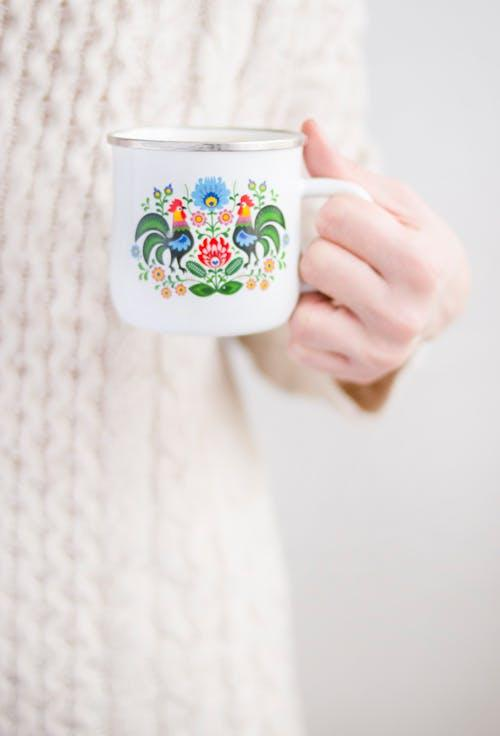Mug: (74, 104, 373, 383)
